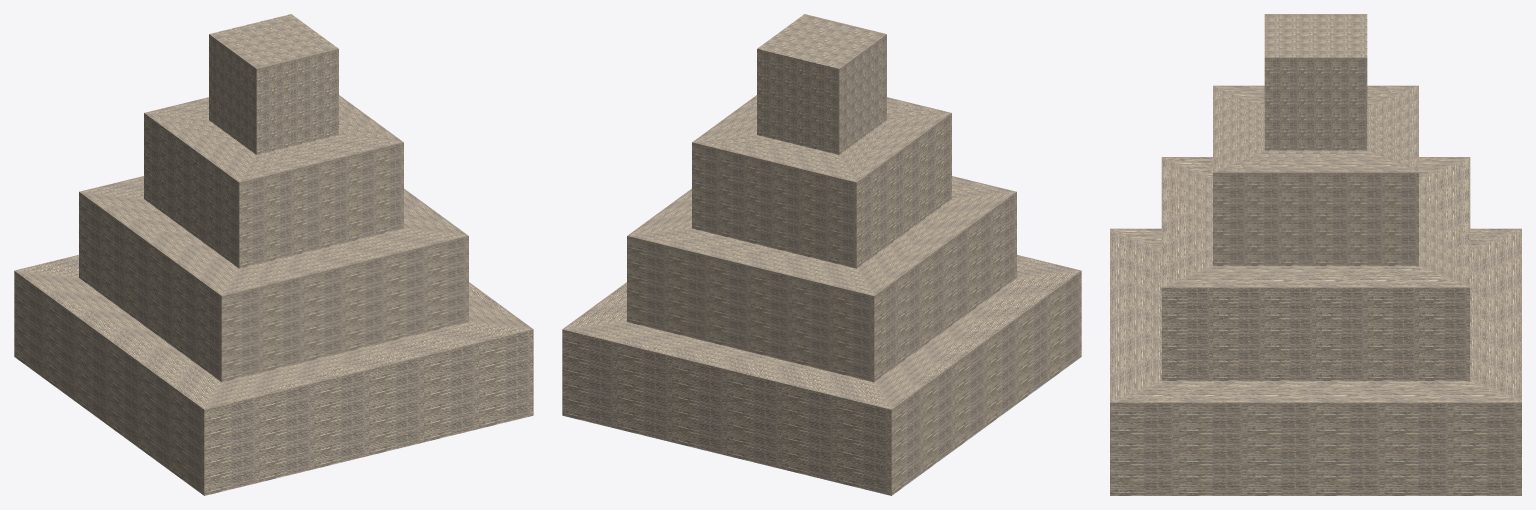
3 views of the same model, side by side, from view 1: azimuth 30°, elevation 25°; view 2: azimuth 150°, elevation 25°; view 3: azimuth 270°, elevation 25° (orthographic). The views are drawn at different scales.
Visible parts, largest first — view 1: Pyramid; view 2: Pyramid; view 3: Pyramid.
Part boxes in pixels (bbox=[...]): Pyramid: bbox=[14, 14, 533, 495]; Pyramid: bbox=[562, 14, 1081, 495]; Pyramid: bbox=[1110, 14, 1521, 495].
Size of the model in its own units: 4 by 4 by 4.
